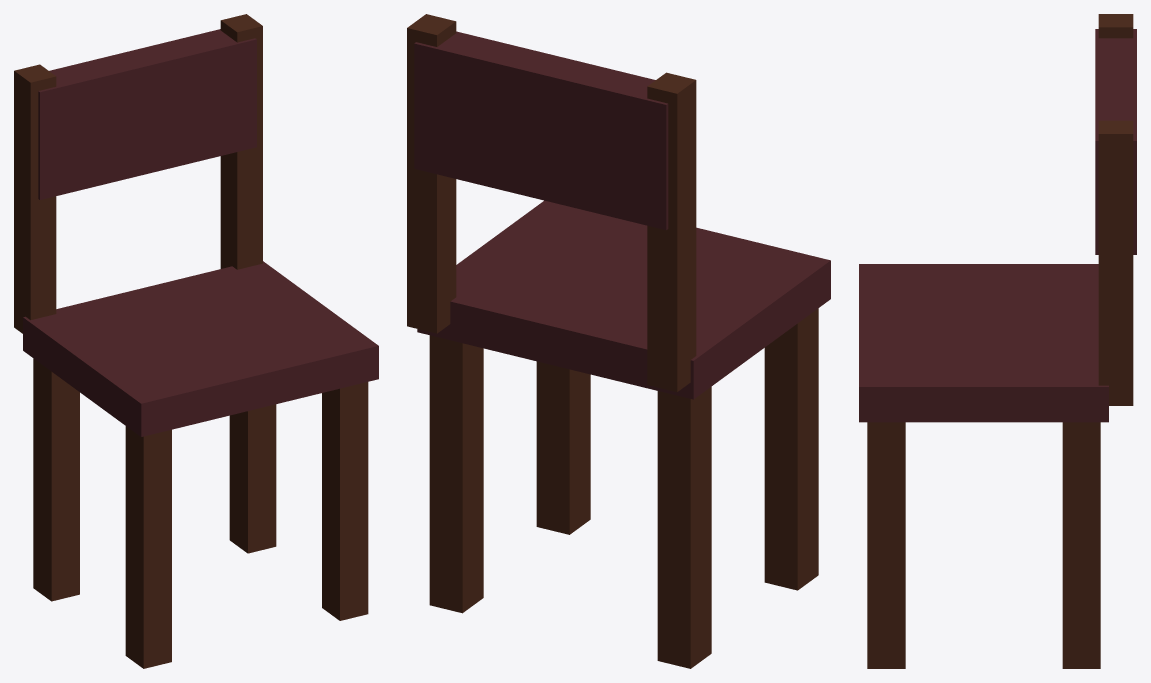
File: chair_velvet.glb
3 views of the same model, side by side, from view 1: azimuth 30°, elevation 25°; view 2: azimuth 150°, elevation 25°; view 3: azimuth 270°, elevation 25° (orthographic). The views are drawn at different scales.
Parts seen in each view (by area): view 1: body; view 2: body; view 3: body.
Part boxes in pixels (x1=…): body: x1=14, y1=14, x2=378, y2=668; body: x1=407, y1=14, x2=830, y2=668; body: x1=859, y1=14, x2=1136, y2=668.
Size of the model in its own units: 0.46 by 0.9381 by 0.44.
Materials: 1 (1 with a texture image).
